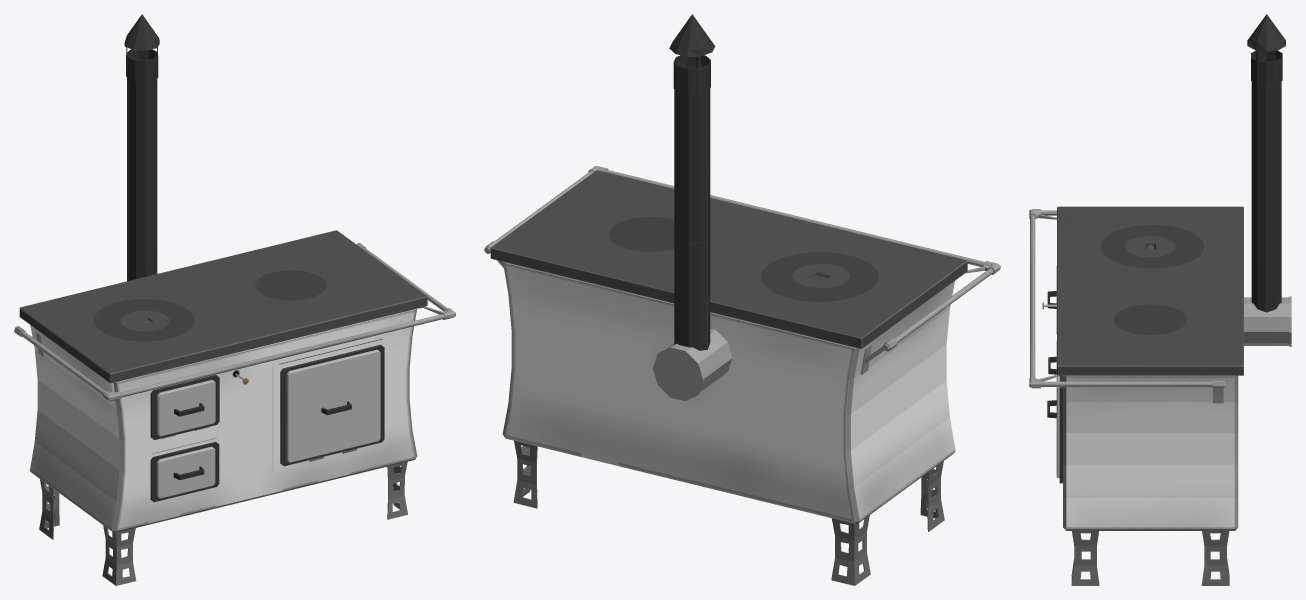
Rendered from Fogão A Lenha.fbx.
The picture shows the model from 3 angles, left to right: view 1: azimuth 30°, elevation 25°; view 2: azimuth 150°, elevation 25°; view 3: azimuth 270°, elevation 25°; orthographic projection. The views are drawn at different scales.
Parts seen in each view (by area): view 1: Caixa, Chapa, Portas 1, Chamine.3, Portas 2, Cube, Portas 3, Barra Segurança.5, Chamine.4, Barra Segurança.3; view 2: Caixa, Chapa, Chamine.3, Cube, Chamine.2, Chamine.4, Barra Segurança.5, Barra Segurança.3; view 3: Chapa, Caixa, Chamine.3, Cube, Chamine.2, Chamine.4, Barra Segurança.3, Barra Segurança.5, Portas 1, Barra Segurança.2.
Boxes of the visible parts, <box> form: Caixa: <box>30,308,417,533</box>; Chapa: <box>19,230,427,383</box>; Portas 1: <box>280,344,384,466</box>; Chamine.3: <box>127,78,157,281</box>; Portas 2: <box>150,375,219,439</box>; Cube: <box>39,461,407,585</box>; Portas 3: <box>150,441,219,502</box>; Barra Segurança.5: <box>119,314,444,397</box>; Chamine.4: <box>124,14,159,83</box>; Barra Segurança.3: <box>20,248,447,394</box>; Caixa: <box>502,262,955,524</box>; Chapa: <box>490,170,967,348</box>; Chamine.3: <box>674,89,710,350</box>; Cube: <box>513,440,944,585</box>; Chamine.2: <box>653,328,732,401</box>; Chamine.4: <box>669,14,715,95</box>; Barra Segurança.5: <box>605,170,984,266</box>; Barra Segurança.3: <box>495,171,993,343</box>; Chapa: <box>1057,206,1243,375</box>; Caixa: <box>1063,375,1238,530</box>; Chamine.3: <box>1251,81,1281,312</box>; Cube: <box>1071,531,1229,585</box>; Chamine.2: <box>1244,296,1291,346</box>; Chamine.4: <box>1247,14,1285,85</box>; Barra Segurança.3: <box>1041,210,1212,386</box>; Barra Segurança.5: <box>1030,215,1035,377</box>; Portas 1: <box>1056,341,1062,483</box>; Barra Segurança.2: <box>1029,209,1065,388</box>.
Bounding box in the file's own units: 470 × 611 × 299.
Materials: 1 (1 with a texture image).
